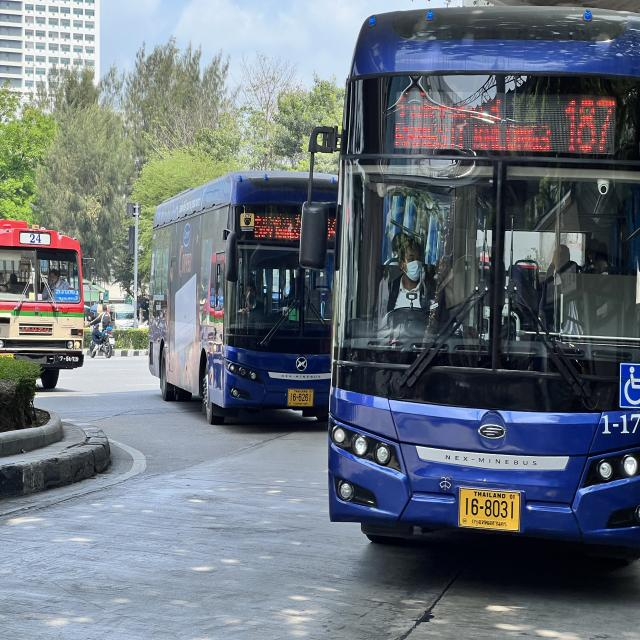BMTA-bus: (0, 210, 89, 395)
Bus-Line-Number: (560, 91, 622, 160), (20, 231, 52, 247)
Destination-Sign-Normal: (389, 84, 553, 158), (252, 208, 305, 248), (54, 290, 78, 302)
TSB-Bus: (324, 0, 640, 562), (147, 162, 342, 426)
